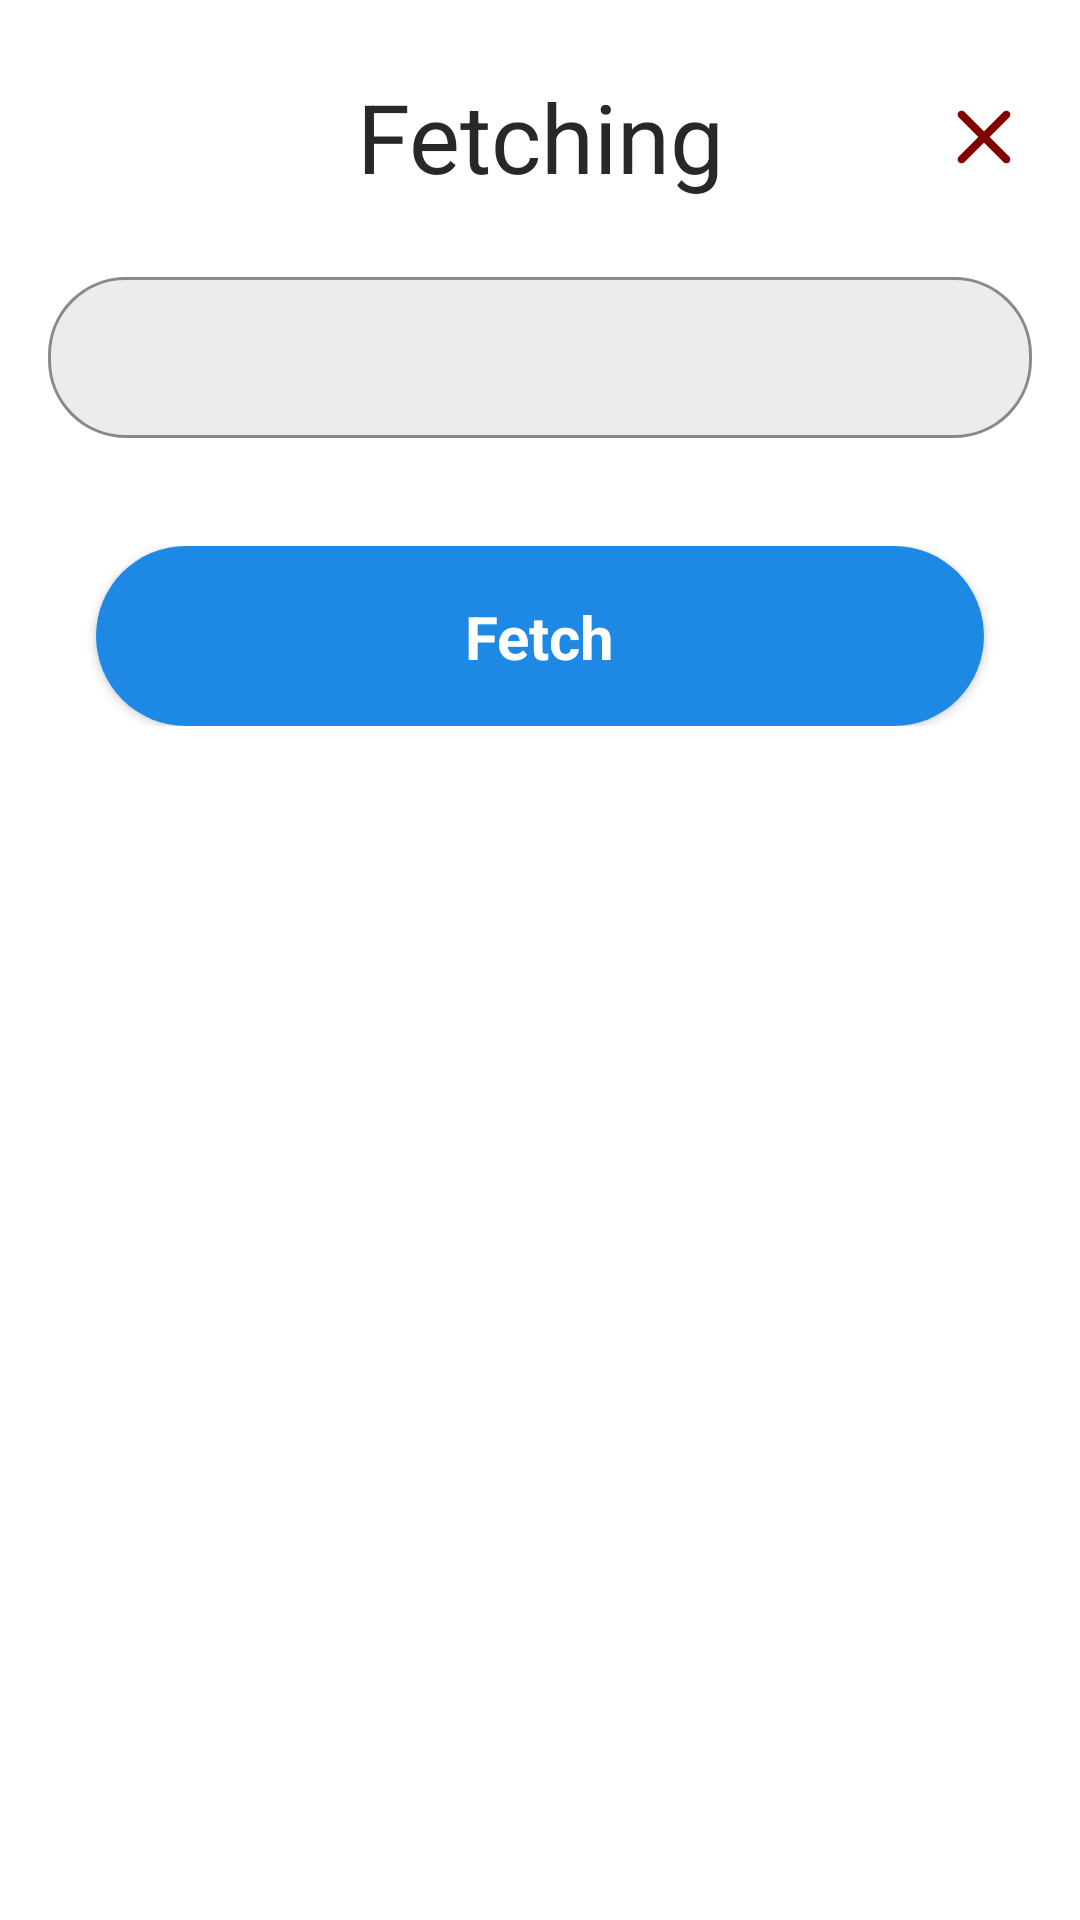

Named icons in this screenshot (1080*1920) and their bounding boxes, (x1, y1, x2, y2):
close: (957, 110, 1011, 164)
